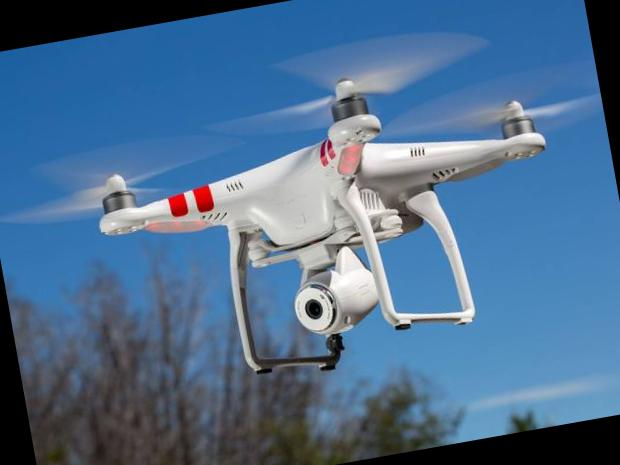drone: (47, 16, 604, 364)
